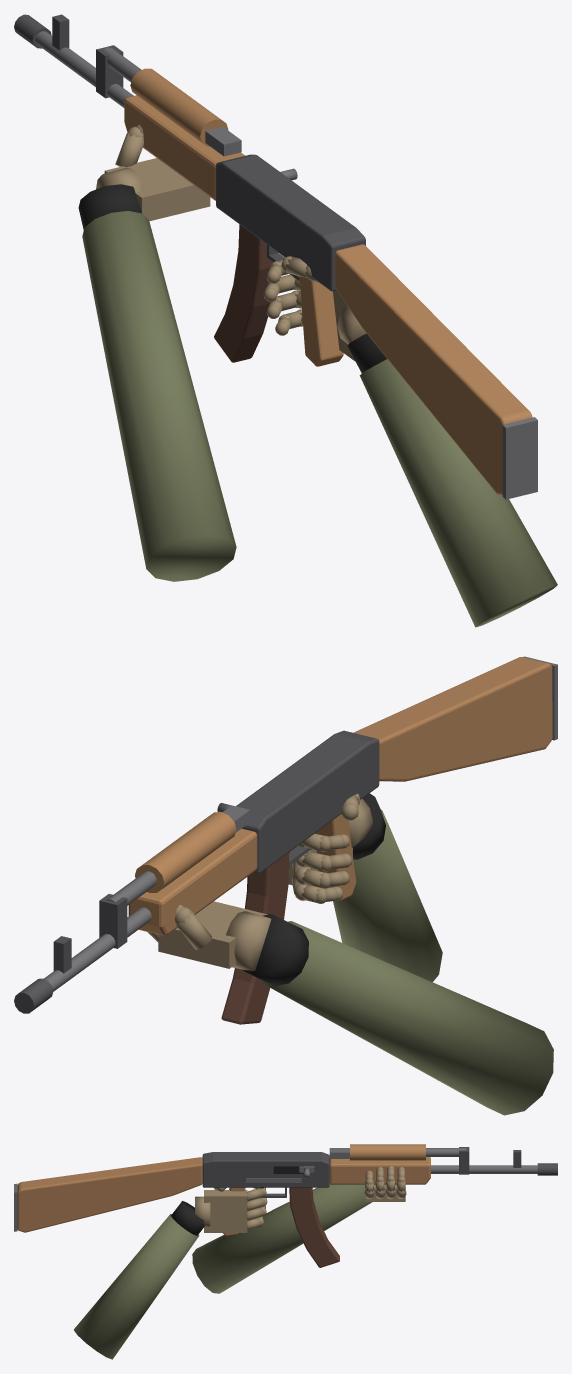
The picture shows the model from 3 angles, top to bottom: view 1: azimuth 30°, elevation 25°; view 2: azimuth 150°, elevation 25°; view 3: azimuth 270°, elevation 25°; orthographic projection. The views are drawn at different scales.
Parts seen in each view (by area): view 1: AK47_Body, AK47_HandLeft, AK47_HandRight, AK47_Mag; view 2: AK47_Body, AK47_HandLeft, AK47_HandRight, AK47_Mag; view 3: AK47_Body, AK47_HandRight, AK47_HandLeft, AK47_Mag.
Part boxes in pixels (left/top/right/bottom): AK47_Body: left=14, top=14, right=537, bottom=499; AK47_HandLeft: left=78, top=124, right=236, bottom=581; AK47_HandRight: left=263, top=256, right=557, bottom=627; AK47_Mag: left=214, top=224, right=273, bottom=362; AK47_Body: left=14, top=656, right=557, bottom=1013; AK47_HandLeft: left=147, top=901, right=553, bottom=1115; AK47_HandRight: left=288, top=793, right=442, bottom=981; AK47_Mag: left=221, top=852, right=289, bottom=1024; AK47_Body: left=14, top=1144, right=557, bottom=1235; AK47_HandRight: left=74, top=1187, right=267, bottom=1359; AK47_HandLeft: left=192, top=1165, right=406, bottom=1293; AK47_Mag: left=289, top=1187, right=339, bottom=1267.
Bounding box in the file's own units: 0.3718 × 0.4235 × 1.07.
